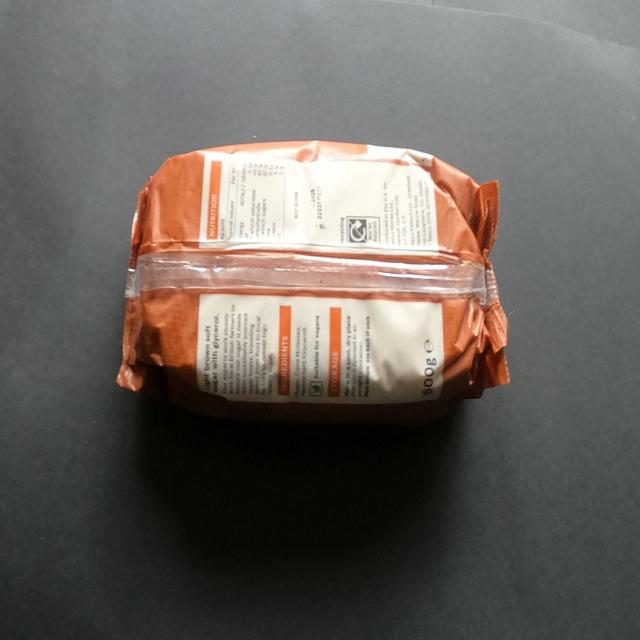Brownsugar: (96, 109, 535, 444)
